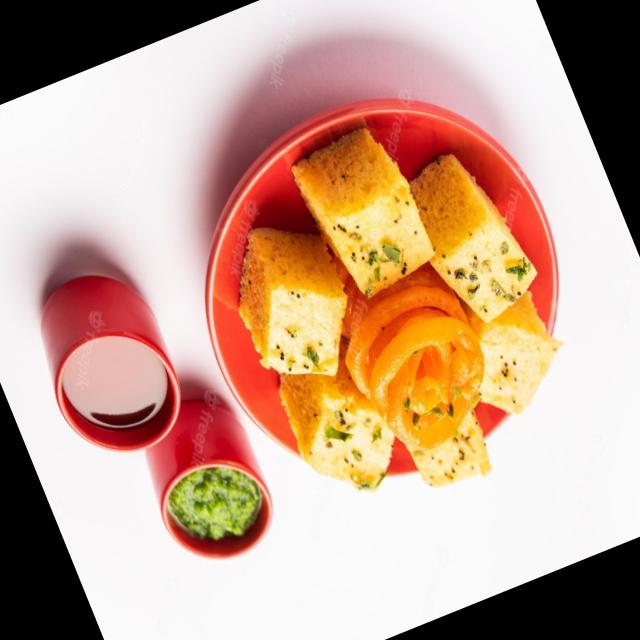dhokla: (198, 94, 592, 530)
